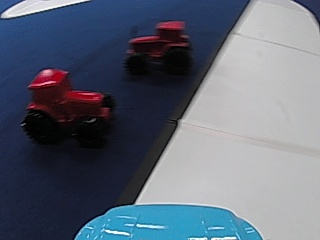tractor: (21, 65, 114, 145), (127, 17, 193, 76)
